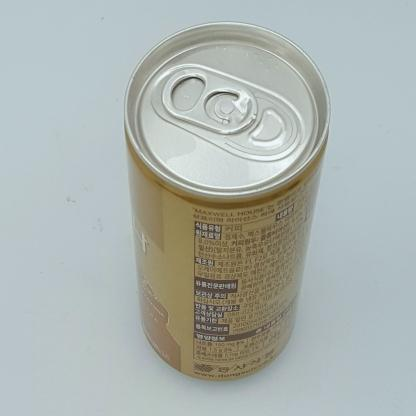-----------------240ML: (123, 21, 331, 382)
